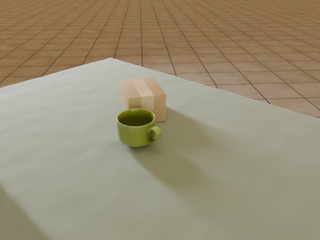box: (121, 77, 166, 122)
cup: (117, 109, 162, 147)
